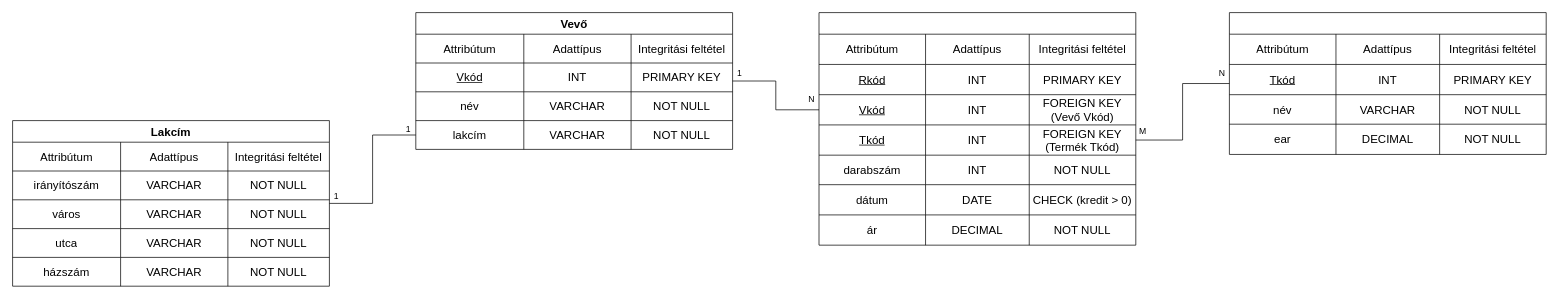
Some shapes in this 1559 by 299 pixel diagram are drawn without their labels. Each missing label, with the box of its shape:
Rendelés: (818, 12, 1136, 245)
Termék: (1229, 12, 1546, 154)
